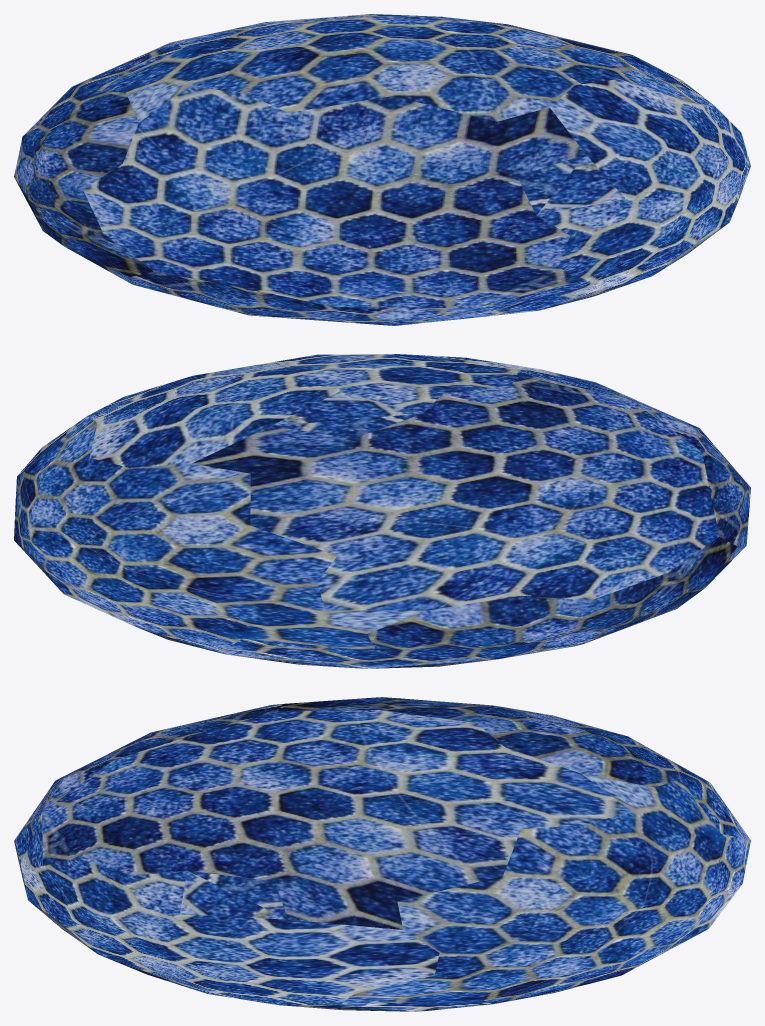
File: plate  2.dae
3 renders of one model, top to bottom at view 1: azimuth 30°, elevation 25°; view 2: azimuth 150°, elevation 25°; view 3: azimuth 270°, elevation 25°, orthographic.
Visible parts, largest first — view 1: Sphere; view 2: Sphere; view 3: Sphere.
Part boxes in pixels (x1=…): Sphere: x1=14, y1=14, x2=750, y2=325; Sphere: x1=14, y1=354, x2=750, y2=668; Sphere: x1=14, y1=697, x2=750, y2=1011.
Size of the model in its own units: 0.6523 by 0.6511 by 0.0272.
Materials: 1 (1 with a texture image).
